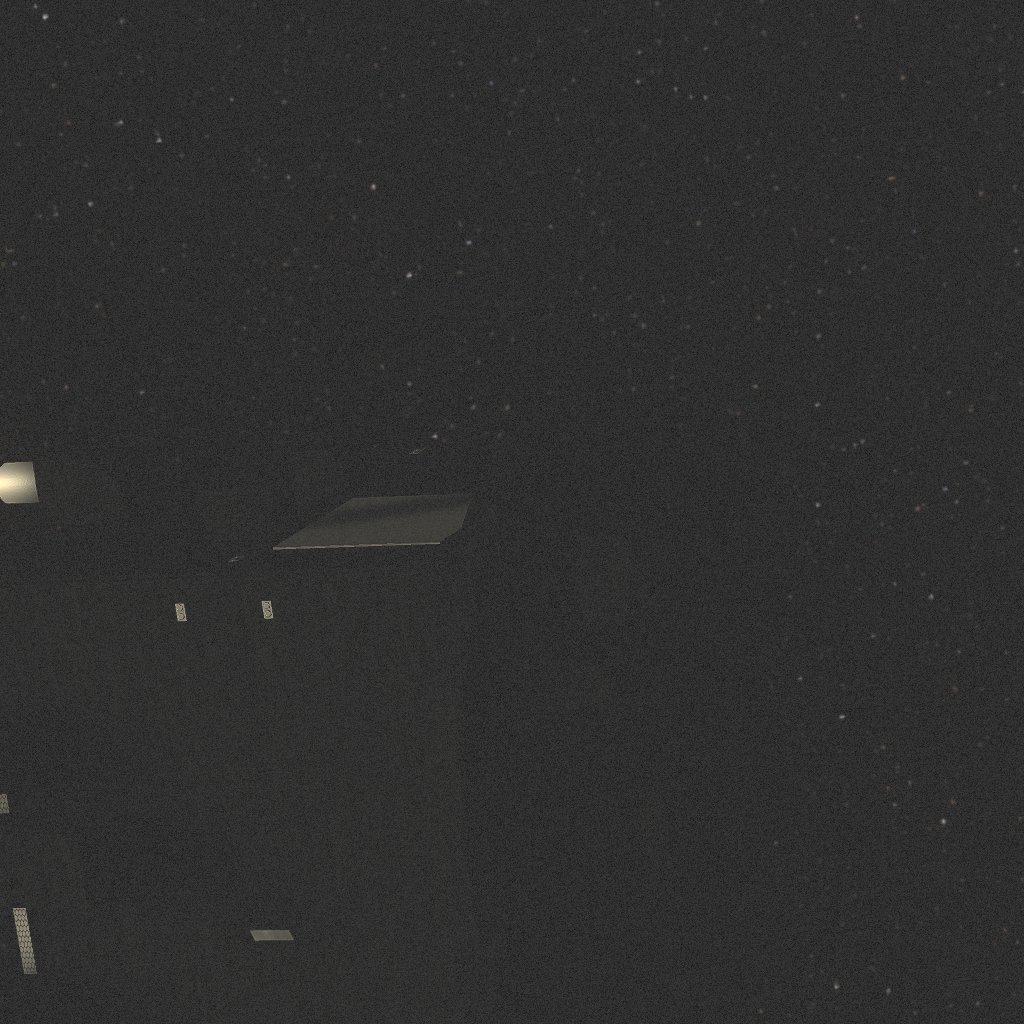proba_3_ocs: (0, 395, 806, 1024)
